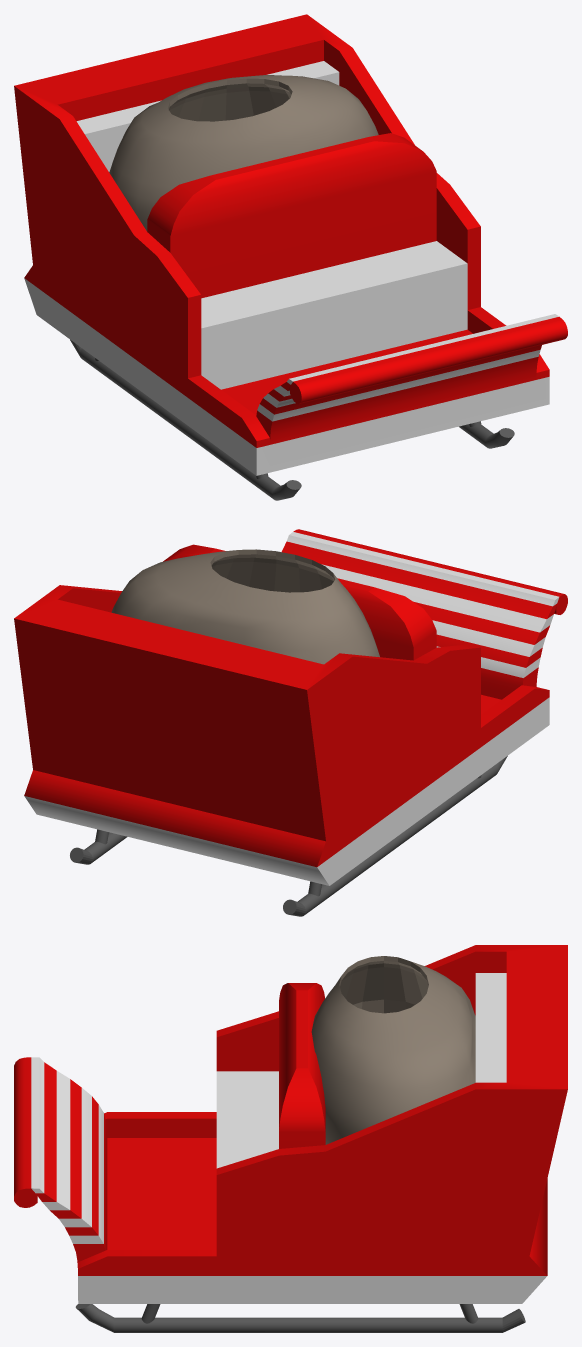
The model's file is sleigh.fbx.
3 views of the same model, one above another, from view 1: azimuth 30°, elevation 25°; view 2: azimuth 150°, elevation 25°; view 3: azimuth 270°, elevation 25° (orthographic).
Visible parts, largest first — view 1: Sleigh1, Bag, Rail6, Rail5; view 2: Sleigh1, Bag, Rail6, Rail5; view 3: Sleigh1, Bag, Rail5.
Boxes of the visible parts, left/top/right/bottom form: Sleigh1: left=14, top=14, right=567, bottom=475; Bag: left=109, top=75, right=378, bottom=231; Rail6: left=70, top=339, right=301, bottom=500; Rail5: left=459, top=424, right=514, bottom=448; Sleigh1: left=14, top=529, right=567, bottom=885; Bag: left=111, top=549, right=379, bottom=664; Rail6: left=283, top=756, right=507, bottom=916; Rail5: left=70, top=832, right=127, bottom=864; Sleigh1: left=14, top=945, right=567, bottom=1303; Bag: left=311, top=956, right=475, bottom=1144; Rail5: left=75, top=1304, right=525, bottom=1332.
Bounding box in the file's own units: 220 × 202 × 357.
